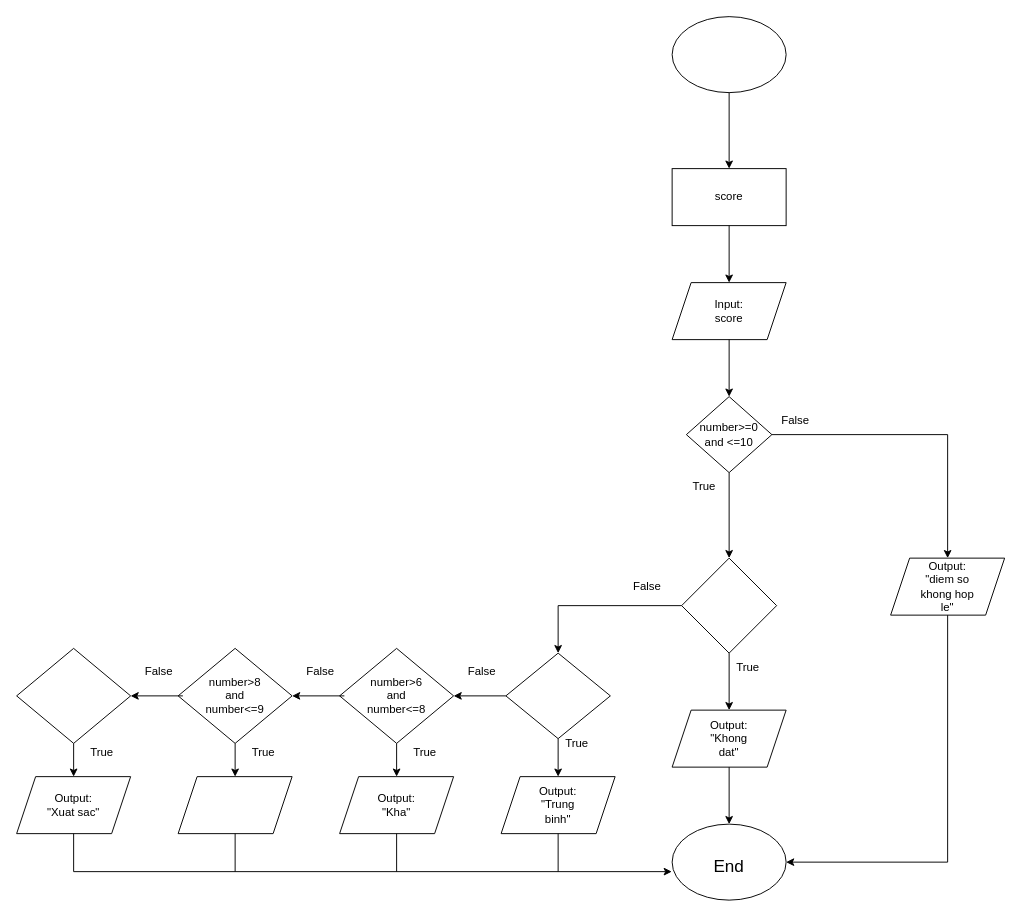
This 1021x917 diagram has some shape labels left out. Each missing label, with the centre of its shape:
number<4: (x=729, y=605)
number>9 and number<=10: (x=73, y=695)
number>=4 and number<=6: (x=557, y=695)
Output: "Gioi": (x=234, y=805)
Start: (x=728, y=54)
